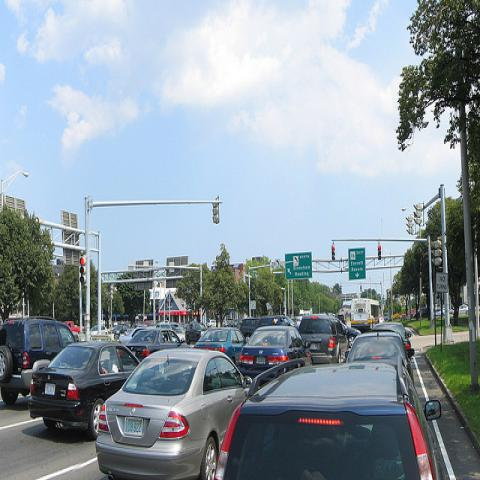bus: (350, 298, 380, 334)
car: (214, 355, 442, 478), (95, 345, 253, 479), (28, 341, 142, 442), (0, 320, 77, 404), (238, 325, 304, 377), (298, 314, 349, 364), (345, 331, 409, 366), (192, 323, 247, 363), (126, 330, 193, 360), (256, 317, 300, 330), (185, 322, 206, 344), (170, 322, 186, 341), (90, 327, 98, 334)
truck: (351, 298, 380, 330), (64, 320, 80, 333)
